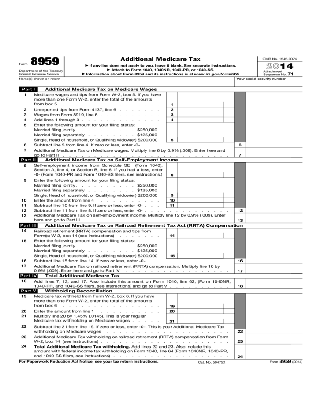textbox: (18, 76, 236, 88), (176, 120, 224, 143), (176, 90, 225, 108), (233, 75, 306, 87), (176, 165, 225, 178), (176, 186, 224, 199), (244, 147, 293, 159), (244, 203, 293, 215), (245, 213, 294, 225), (175, 227, 224, 239), (245, 253, 294, 265), (244, 262, 293, 274), (244, 277, 292, 289), (176, 248, 225, 259), (176, 300, 225, 310), (176, 307, 225, 317), (176, 315, 225, 325), (244, 326, 292, 336), (244, 335, 292, 345), (244, 350, 292, 360), (244, 140, 291, 149), (175, 196, 225, 203), (221, 120, 236, 143), (176, 106, 225, 113), (176, 111, 225, 118), (176, 116, 225, 123), (175, 200, 224, 207), (222, 90, 236, 109), (289, 255, 305, 265), (219, 316, 235, 326), (222, 188, 236, 199), (289, 265, 306, 274), (289, 281, 306, 290), (289, 326, 306, 335), (289, 351, 306, 360), (289, 336, 305, 345), (220, 306, 236, 315), (221, 169, 235, 179), (221, 230, 235, 240), (221, 249, 235, 259), (290, 216, 305, 225), (222, 300, 236, 309), (221, 196, 236, 204), (289, 141, 306, 148), (289, 151, 306, 158), (222, 110, 236, 118), (221, 115, 235, 123), (221, 201, 235, 209), (290, 206, 304, 214), (221, 105, 236, 112)
